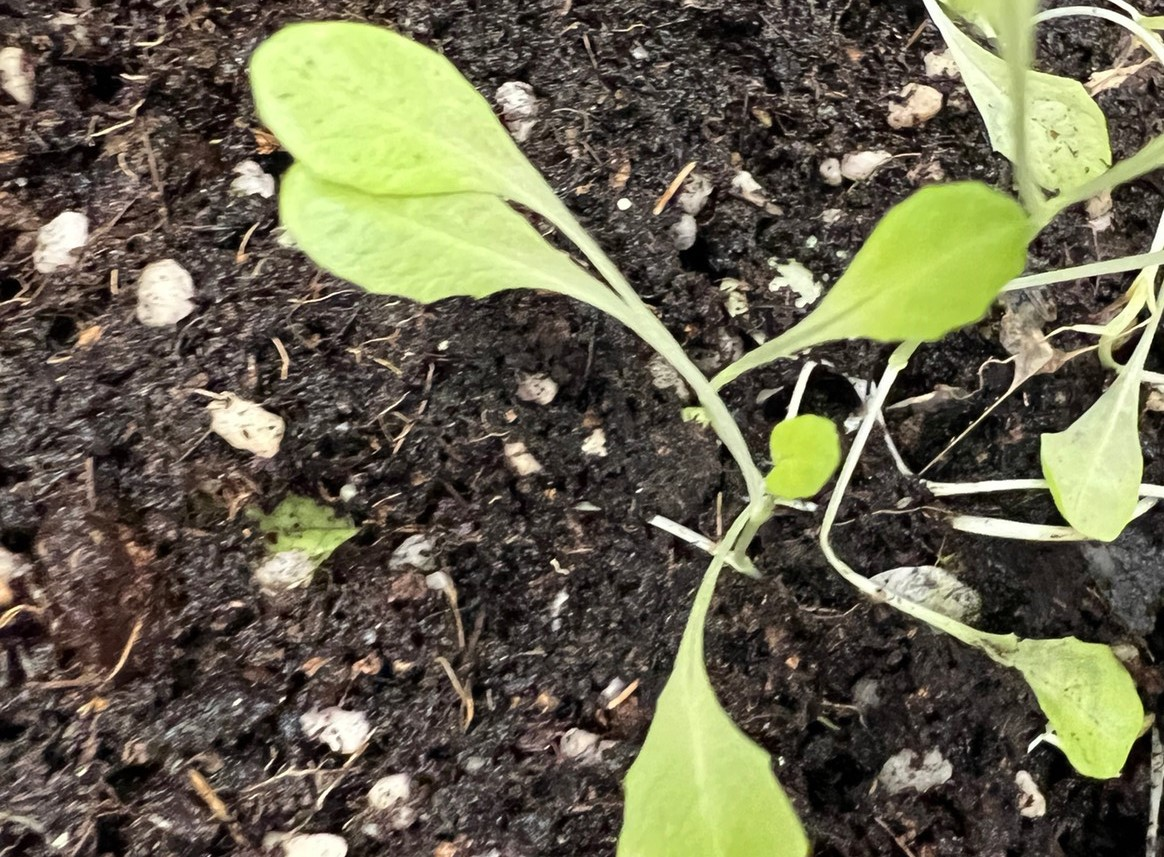week4: (220, 16, 1047, 857)
